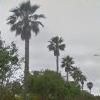Tree: (46, 31, 88, 100)
